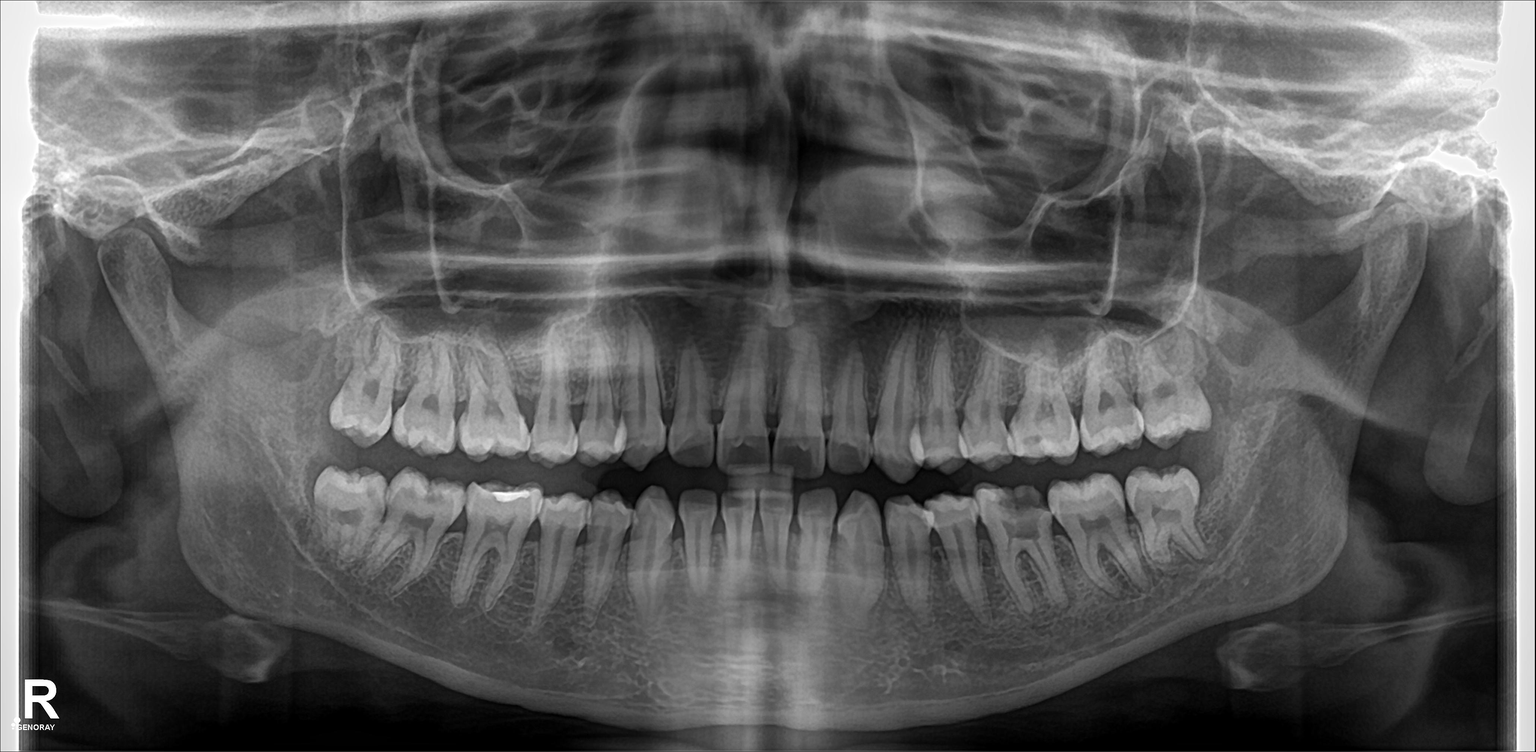Dental Caries: (996, 490, 1049, 536), (723, 436, 766, 472), (400, 501, 437, 538), (777, 437, 809, 474)
